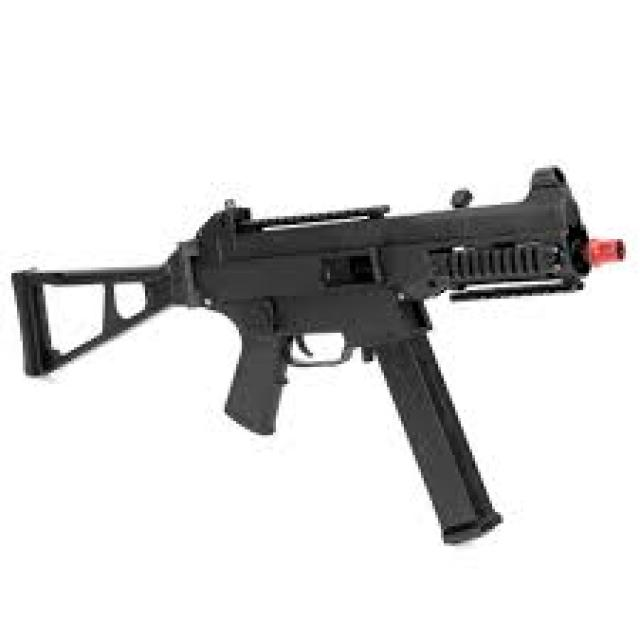Gun: (12, 164, 640, 551)
